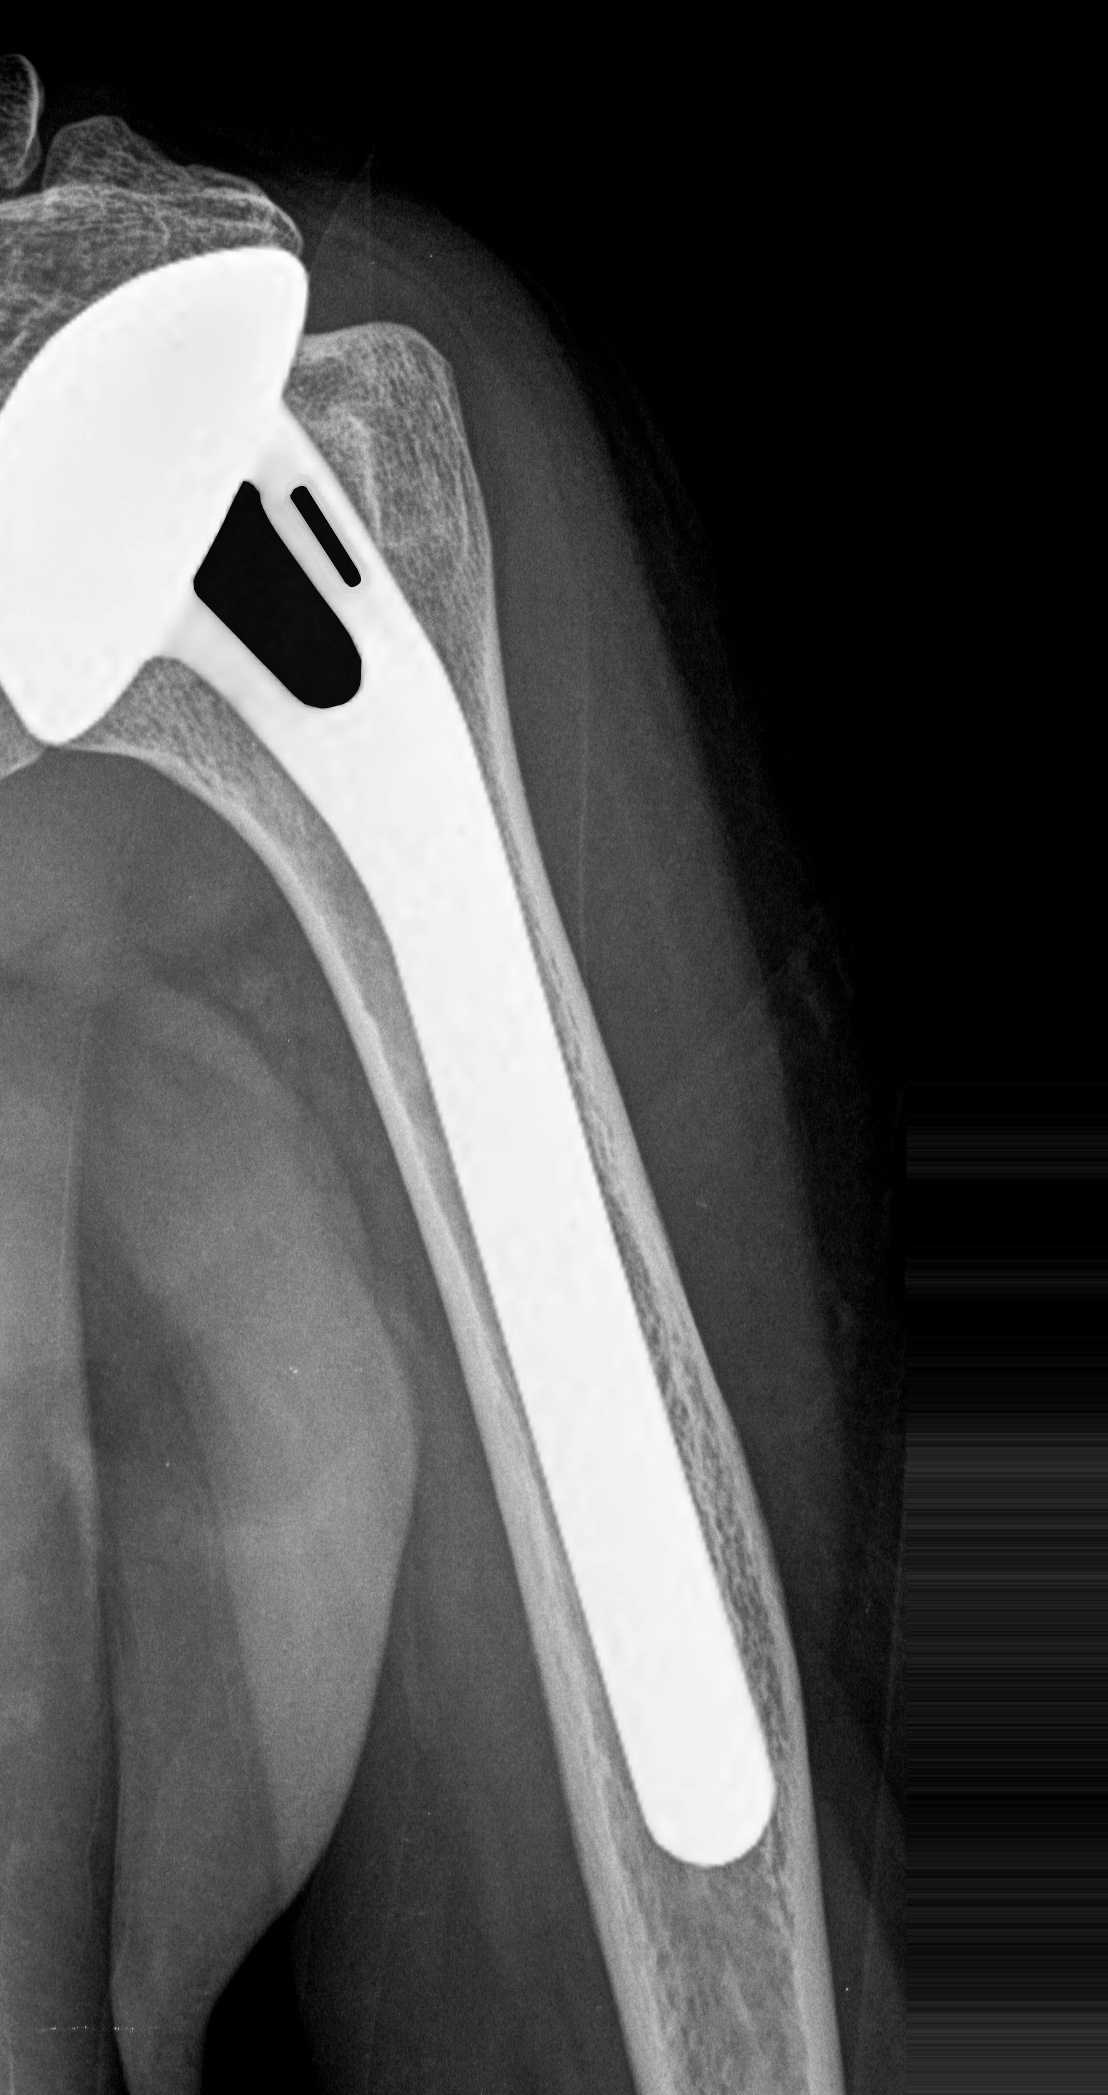Shoulder - AequalisFracture - Tornier: (3, 231, 393, 770)
